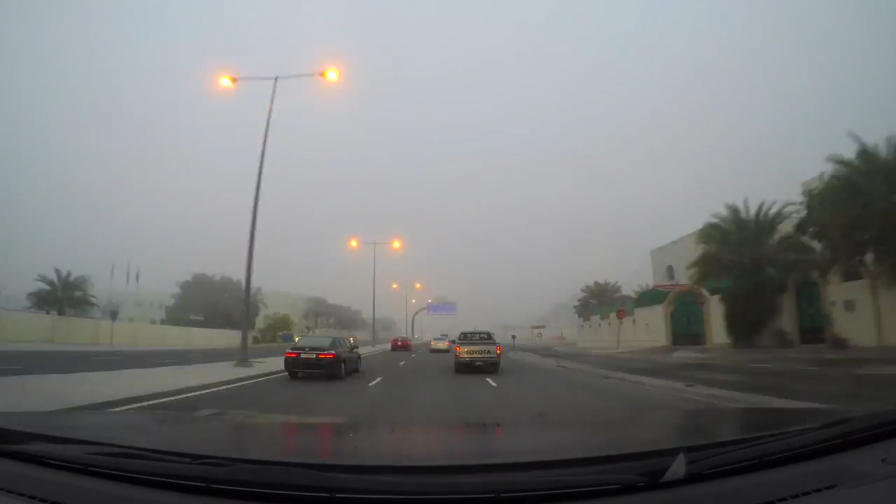car: (283, 333, 362, 380), (451, 331, 503, 374), (389, 336, 412, 353), (429, 336, 451, 353)
